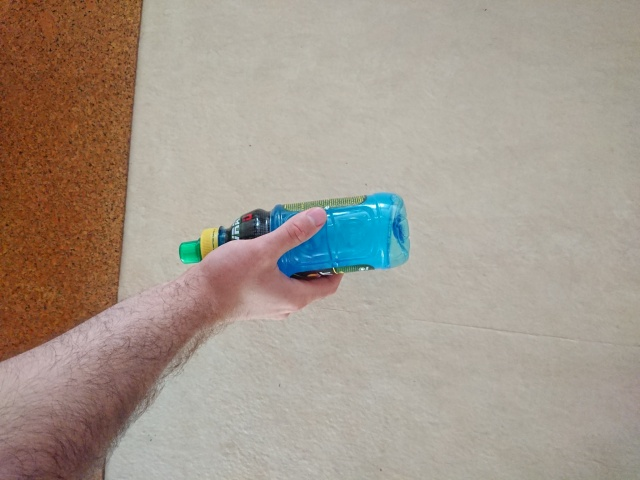Vindi Iso Sport Forest Strawberries 500mL: (176, 190, 412, 286)
